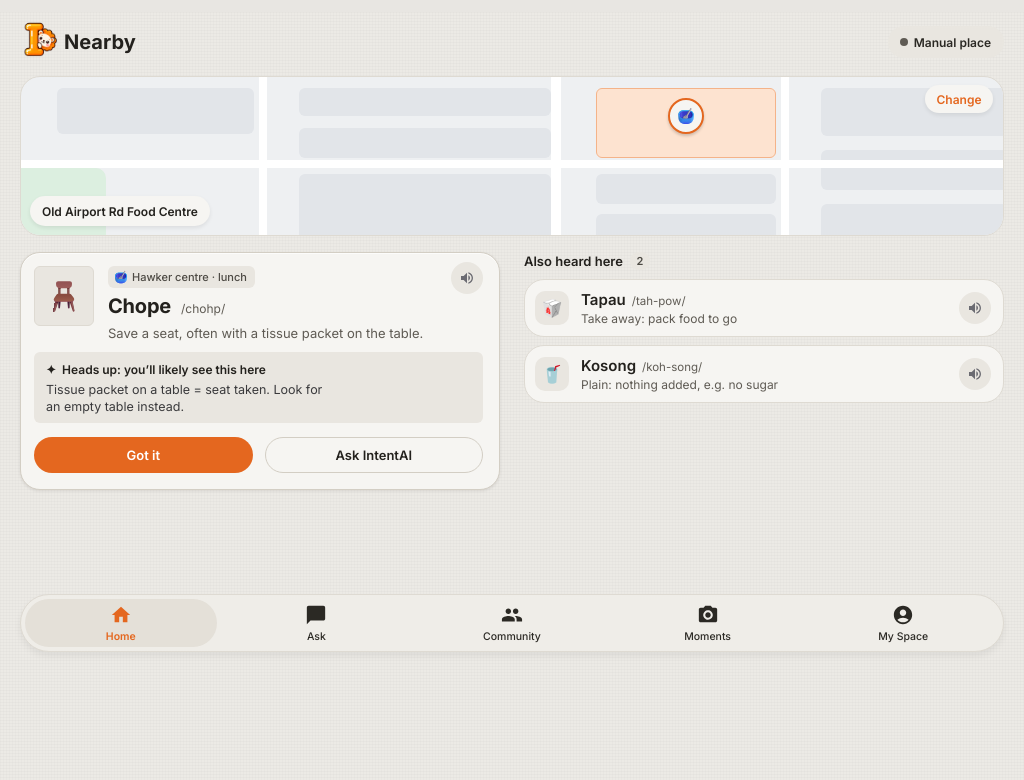
Test: the location chip opens the place list (where the location switch lives)
Click the button "Manual place": {"x": 946, "y": 42} [888,26,1004,58]
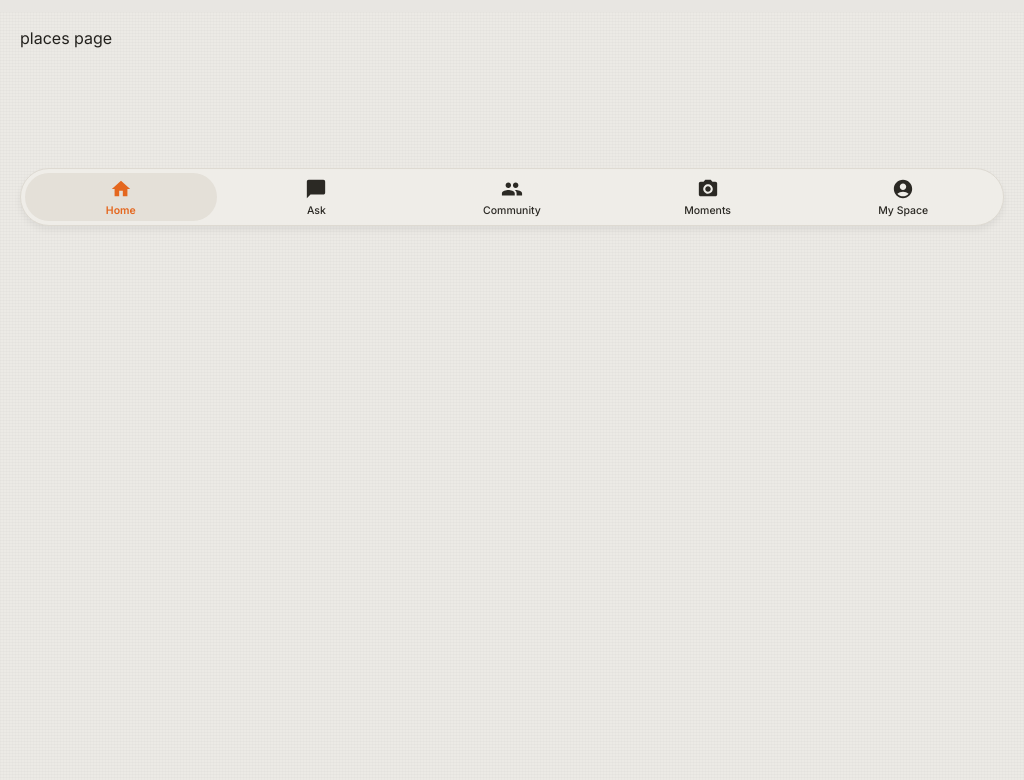
Now the text "places page" is shown, box [20,28,112,48]
